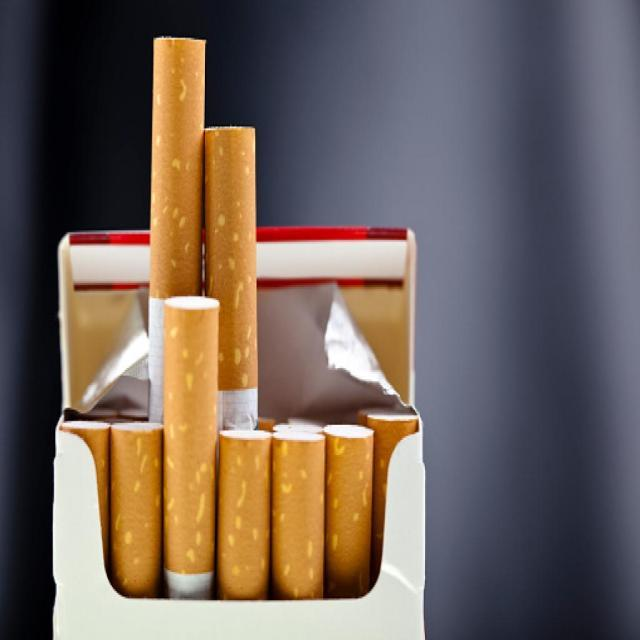smoking: (53, 37, 429, 640)
